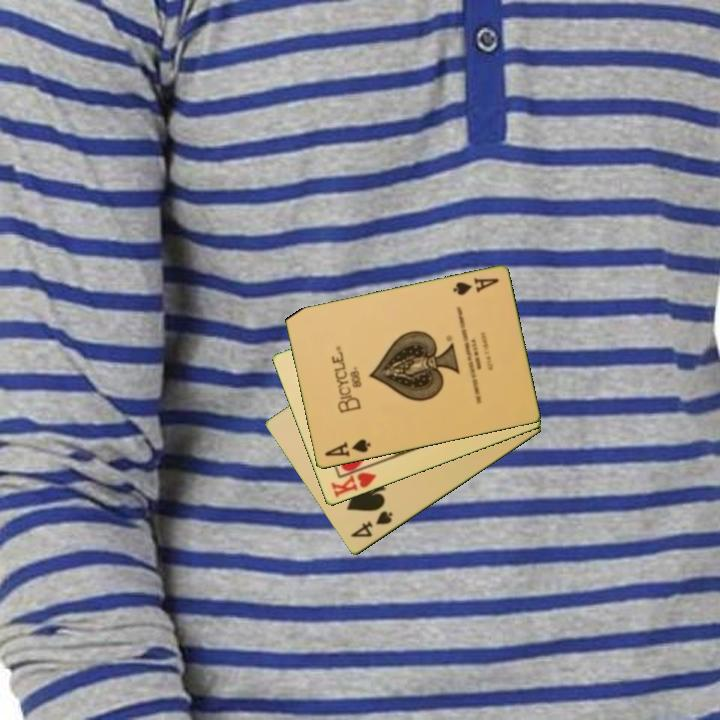4s: (347, 508, 396, 541)
As: (449, 274, 502, 299), (321, 436, 373, 460)
Kh: (327, 461, 379, 501)
